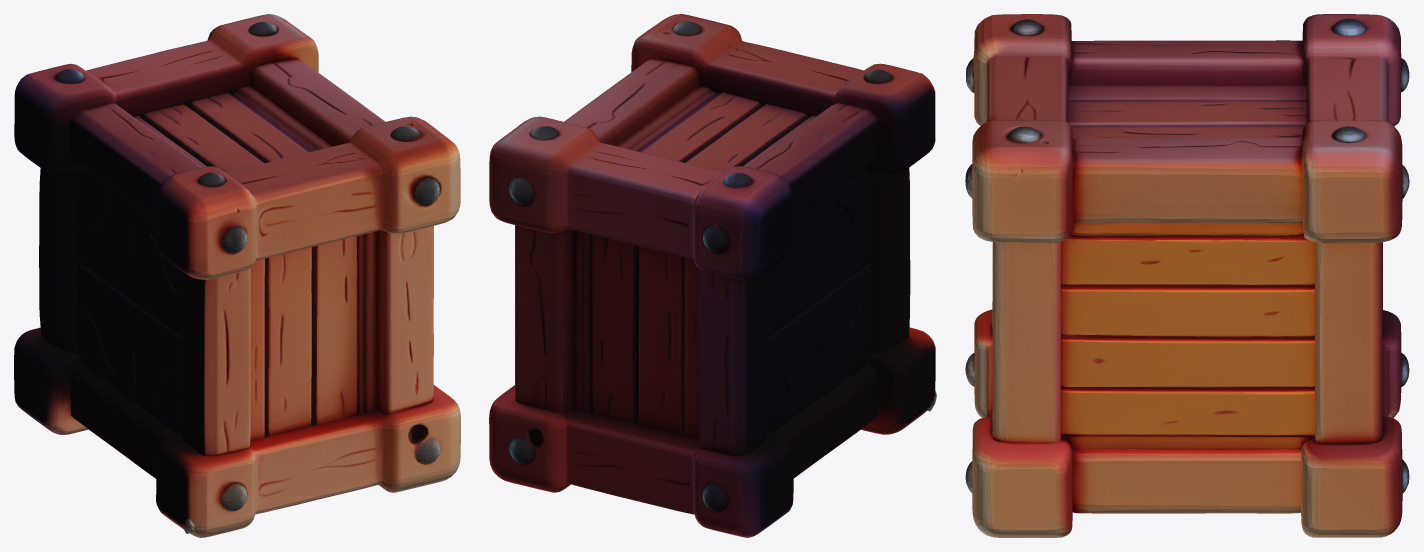
Rendered from crate_comfyui.glb.
The picture shows the model from 3 angles, left to right: view 1: azimuth 30°, elevation 25°; view 2: azimuth 150°, elevation 25°; view 3: azimuth 270°, elevation 25°; orthographic projection. The views are drawn at different scales.
Size of the model in its own units: 0.8124 by 0.9998 by 1.
Materials: 1 (1 with a texture image).
